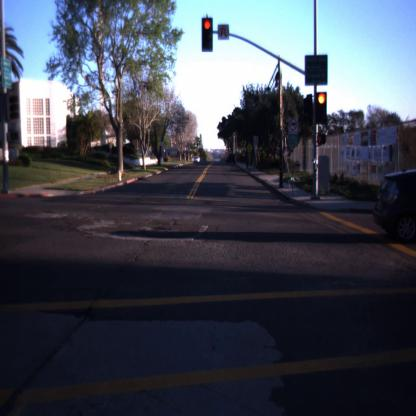trafficlight: (314, 89, 328, 134), (202, 14, 215, 52)
